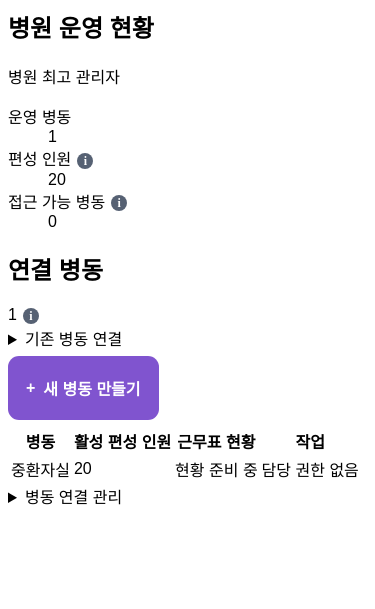
Test: hospital owner disconnection › immediately disconnects after confirmation and refreshes the displayed link
Click the heading "병동 연결 관리" at (74, 498), box [25,489,122,506]
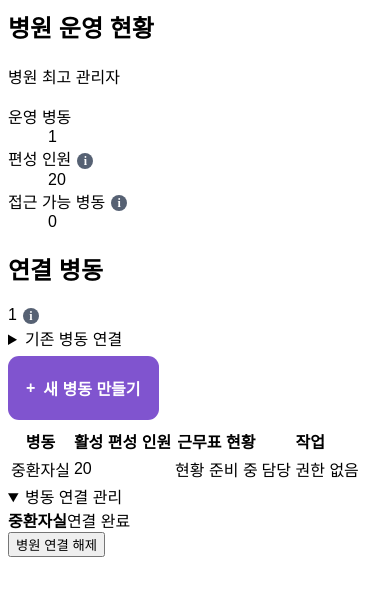
Click the button "병원 연결 해제" at (56, 545), box [8,532,105,557]
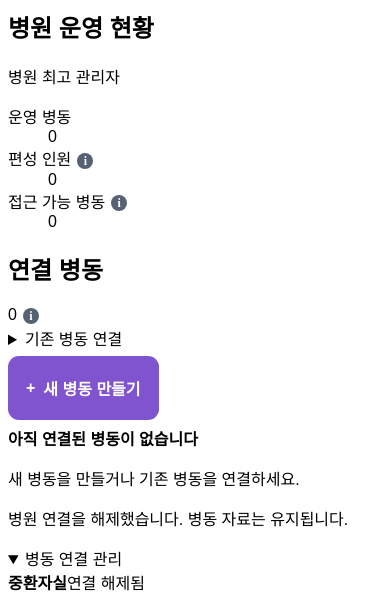
expect the message shows "병원 연결을 해제했습니다.": met, box [8,511,348,528]
expect the button "병원 연결 해제" is gone: met
expect the text "아직 연결된 병동이 없습니다" is shown: met, box [8,431,198,448]
